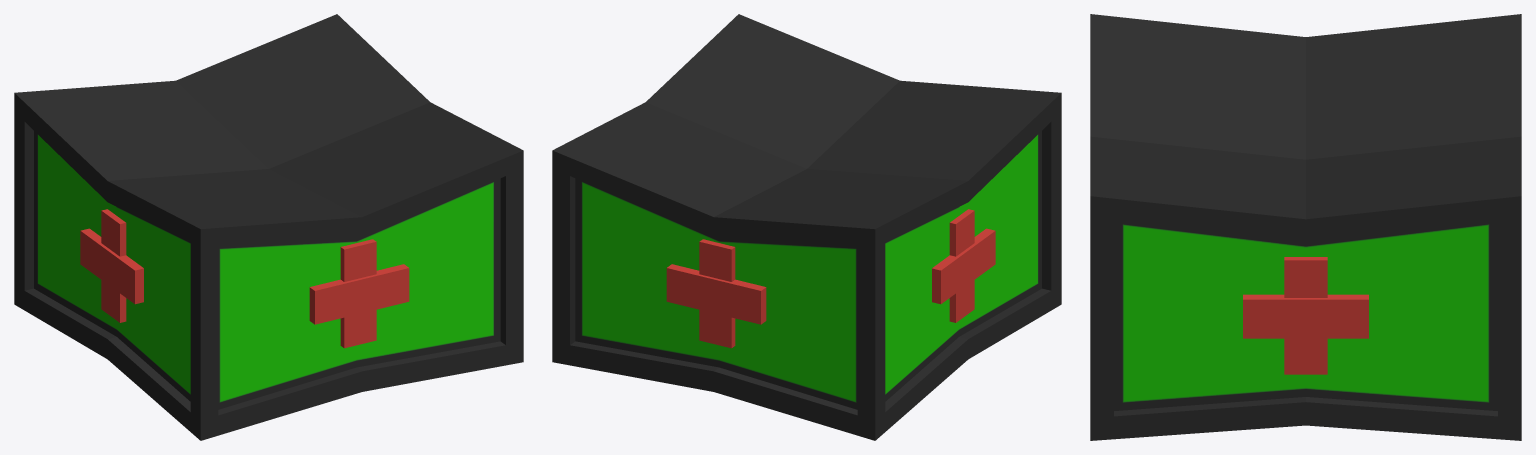
The model's file is HealthPack.fbx.
3 views of the same model, side by side, from view 1: azimuth 30°, elevation 25°; view 2: azimuth 150°, elevation 25°; view 3: azimuth 270°, elevation 25° (orthographic). The views are drawn at different scales.
Parts seen in each view (by area): view 1: Cube; view 2: Cube; view 3: Cube.
Part boxes in pixels (x1=…): Cube: x1=14, y1=14, x2=523, y2=440; Cube: x1=552, y1=14, x2=1061, y2=440; Cube: x1=1090, y1=14, x2=1521, y2=440.
Size of the model in its own units: 2 by 1.25 by 2.
